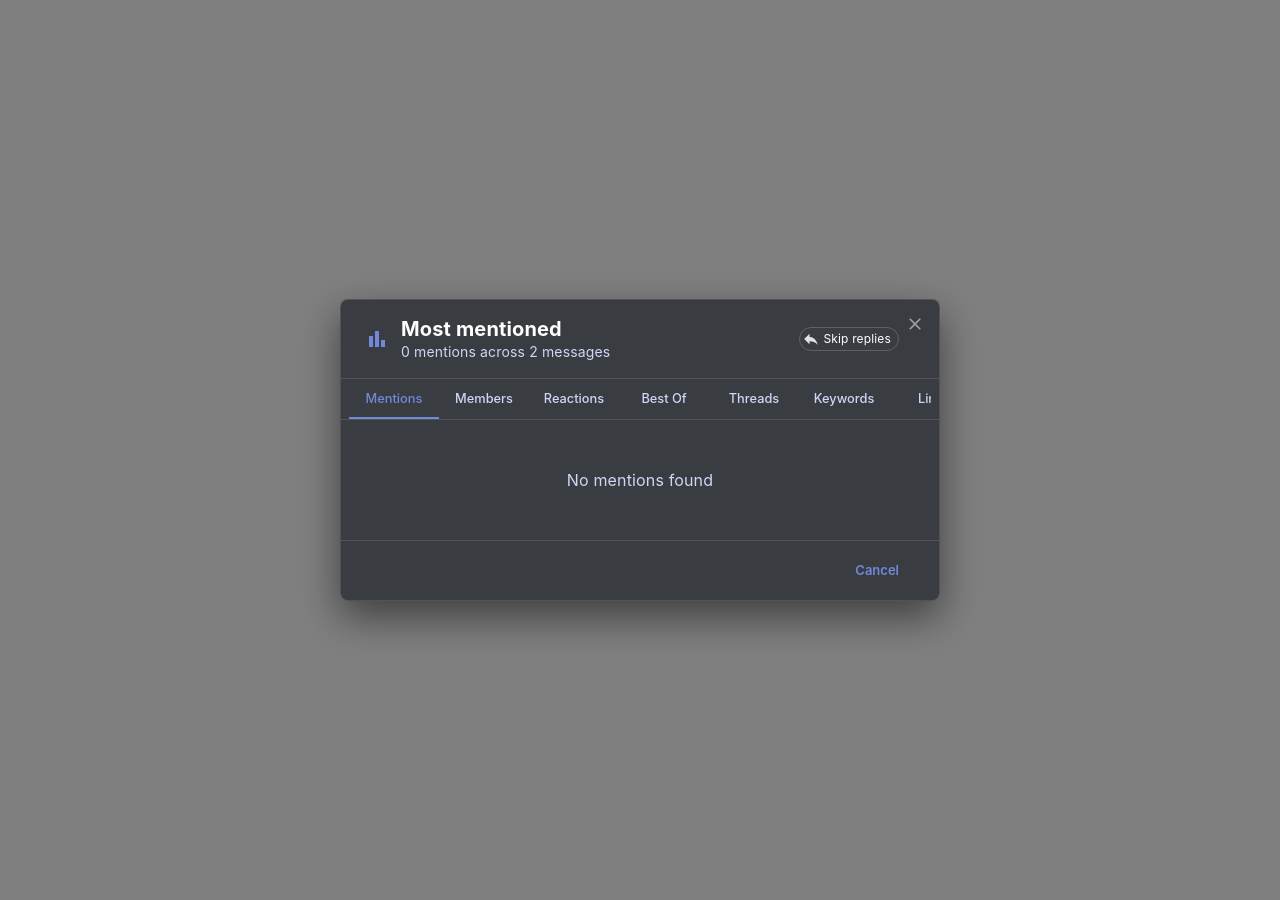
Test: AnalyticsModal › other reports › Reactions ranks authors by reactions received
Step 1. Click the tab "Reactions" → (574, 399), box x1=529 y1=379 x2=619 y2=419
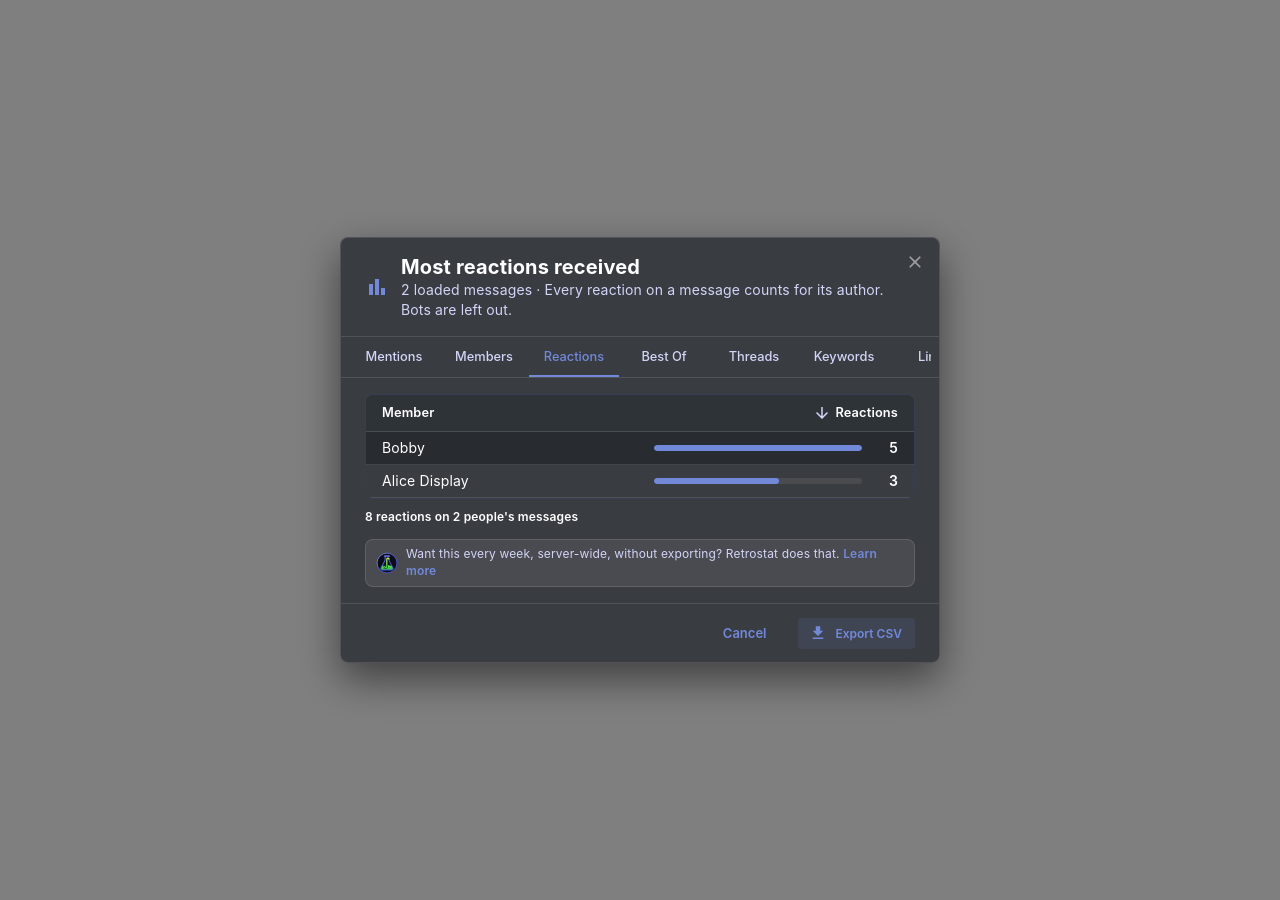
Expected: the row with test id "analytics-row" shows "Bobby", x1=382 y1=439 x2=425 y2=456
Expected: the row with test id "analytics-row" shows "5", x1=889 y1=439 x2=898 y2=456
